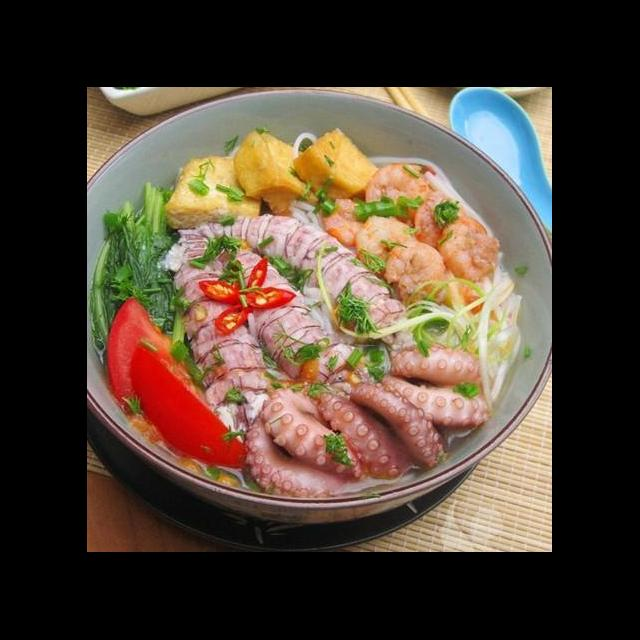bun hai san: (91, 121, 541, 552)
dau hu: (230, 128, 324, 220), (160, 152, 264, 232), (286, 124, 382, 202)
muc: (238, 342, 498, 508)
tom: (376, 237, 452, 310), (434, 214, 504, 286), (401, 187, 472, 254), (350, 210, 418, 278), (361, 162, 436, 220), (320, 192, 378, 252)
tom tit: (200, 210, 416, 356), (153, 222, 280, 448), (203, 225, 339, 386)
